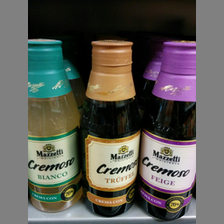vinegar: (139, 41, 198, 219), (84, 38, 142, 217), (29, 39, 84, 215)
